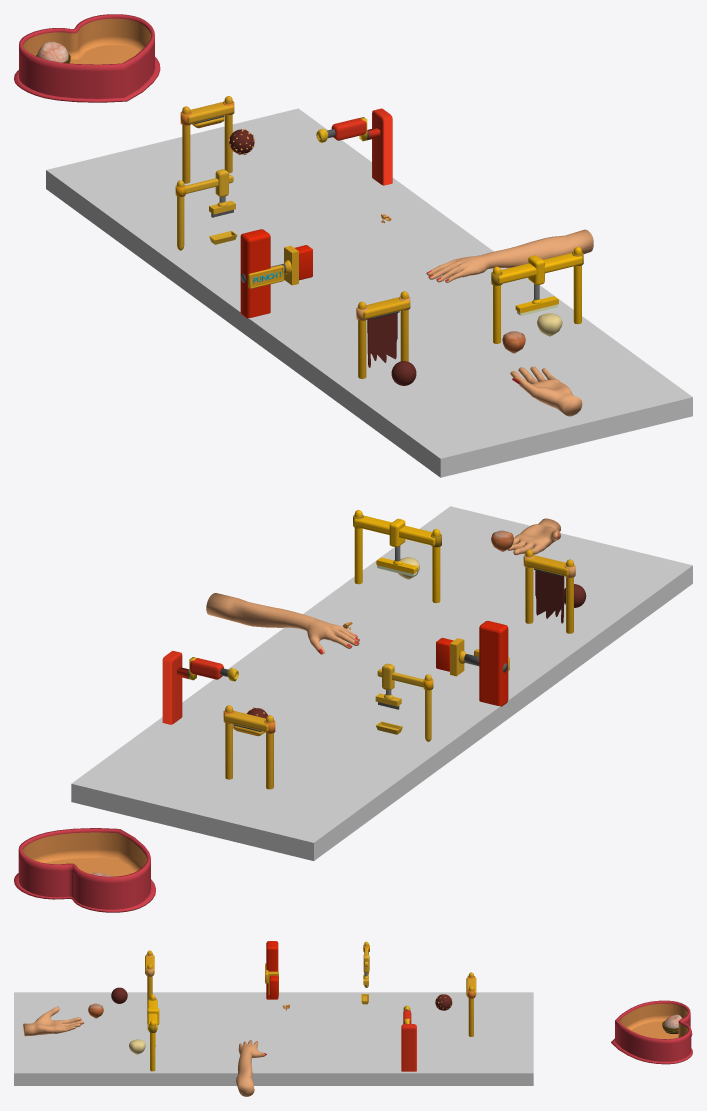
File: NUT_RUN_Scene.fbx
The picture shows the model from 3 angles, top to bottom: view 1: azimuth 30°, elevation 25°; view 2: azimuth 150°, elevation 25°; view 3: azimuth 270°, elevation 25°; orthographic projection. The views are drawn at different scales.
Visible parts, largest first — view 1: Ground, Heart_Box, Obstacles_Hand, Punch_Body, Packer, Fire_Machine, Nut_cell_machine, Chocolate_Door, Player_Hand, Nut_breaker, Chocolate, Punch_Body_End; view 2: Ground, Heart_Box, Obstacles_Hand, Packer, Punch_Body, Fire_Machine, Nut_cell_machine, Chocolate_Door, Nut_breaker, Chocolate, Player_Hand, Punch_Body_End; view 3: Ground, Heart_Box, Obstacles_Hand, Player_Hand, Fire_Machine, Packer, Punch_Body, Nut_cell_machine, Chocolate_Door, Nut_breaker, Punch_Body_End, Packaget_Nut.
Part boxes in pixels (x1=…): Ground: x1=46, y1=108, x2=692, y2=477; Heart_Box: x1=14, y1=14, x2=160, y2=102; Obstacles_Hand: x1=426, y1=229, x2=593, y2=282; Punch_Body: x1=240, y1=229, x2=284, y2=318; Packer: x1=491, y1=247, x2=583, y2=343; Fire_Machine: x1=316, y1=108, x2=392, y2=185; Nut_cell_machine: x1=180, y1=96, x2=234, y2=183; Chocolate_Door: x1=356, y1=291, x2=410, y2=378; Player_Hand: x1=510, y1=366, x2=582, y2=416; Nut_breaker: x1=175, y1=169, x2=237, y2=250; Chocolate: x1=367, y1=313, x2=397, y2=367; Punch_Body_End: x1=241, y1=245, x2=312, y2=285; Ground: x1=71, y1=506, x2=692, y2=860; Heart_Box: x1=14, y1=828, x2=155, y2=912; Obstacles_Hand: x1=206, y1=593, x2=359, y2=654; Packer: x1=353, y1=510, x2=441, y2=603; Punch_Body: x1=474, y1=621, x2=509, y2=706; Fire_Machine: x1=162, y1=650, x2=238, y2=724; Nut_cell_machine: x1=223, y1=705, x2=275, y2=789; Chocolate_Door: x1=523, y1=549, x2=575, y2=633; Nut_breaker: x1=376, y1=663, x2=433, y2=741; Chocolate: x1=535, y1=570, x2=564, y2=623; Player_Hand: x1=507, y1=518, x2=560, y2=554; Punch_Body_End: x1=436, y1=637, x2=507, y2=676; Ground: x1=14, y1=992, x2=533, y2=1085; Heart_Box: x1=611, y1=1000, x2=692, y2=1064; Obstacles_Hand: x1=236, y1=1040, x2=266, y2=1096; Player_Hand: x1=23, y1=1006, x2=83, y2=1036; Fire_Machine: x1=401, y1=1005, x2=416, y2=1071; Packer: x1=147, y1=994, x2=159, y2=1071; Punch_Body: x1=265, y1=941, x2=278, y2=999; Nut_cell_machine: x1=466, y1=972, x2=476, y2=1036; Chocolate_Door: x1=145, y1=950, x2=154, y2=1008; Nut_breaker: x1=361, y1=941, x2=369, y2=1004; Punch_Body_End: x1=268, y1=971, x2=278, y2=998; Packaget_Nut: x1=662, y1=1014, x2=682, y2=1033.
Bounding box in the file's own units: 257 × 75.22 × 707.
Materials: 28 (2 with a texture image).
